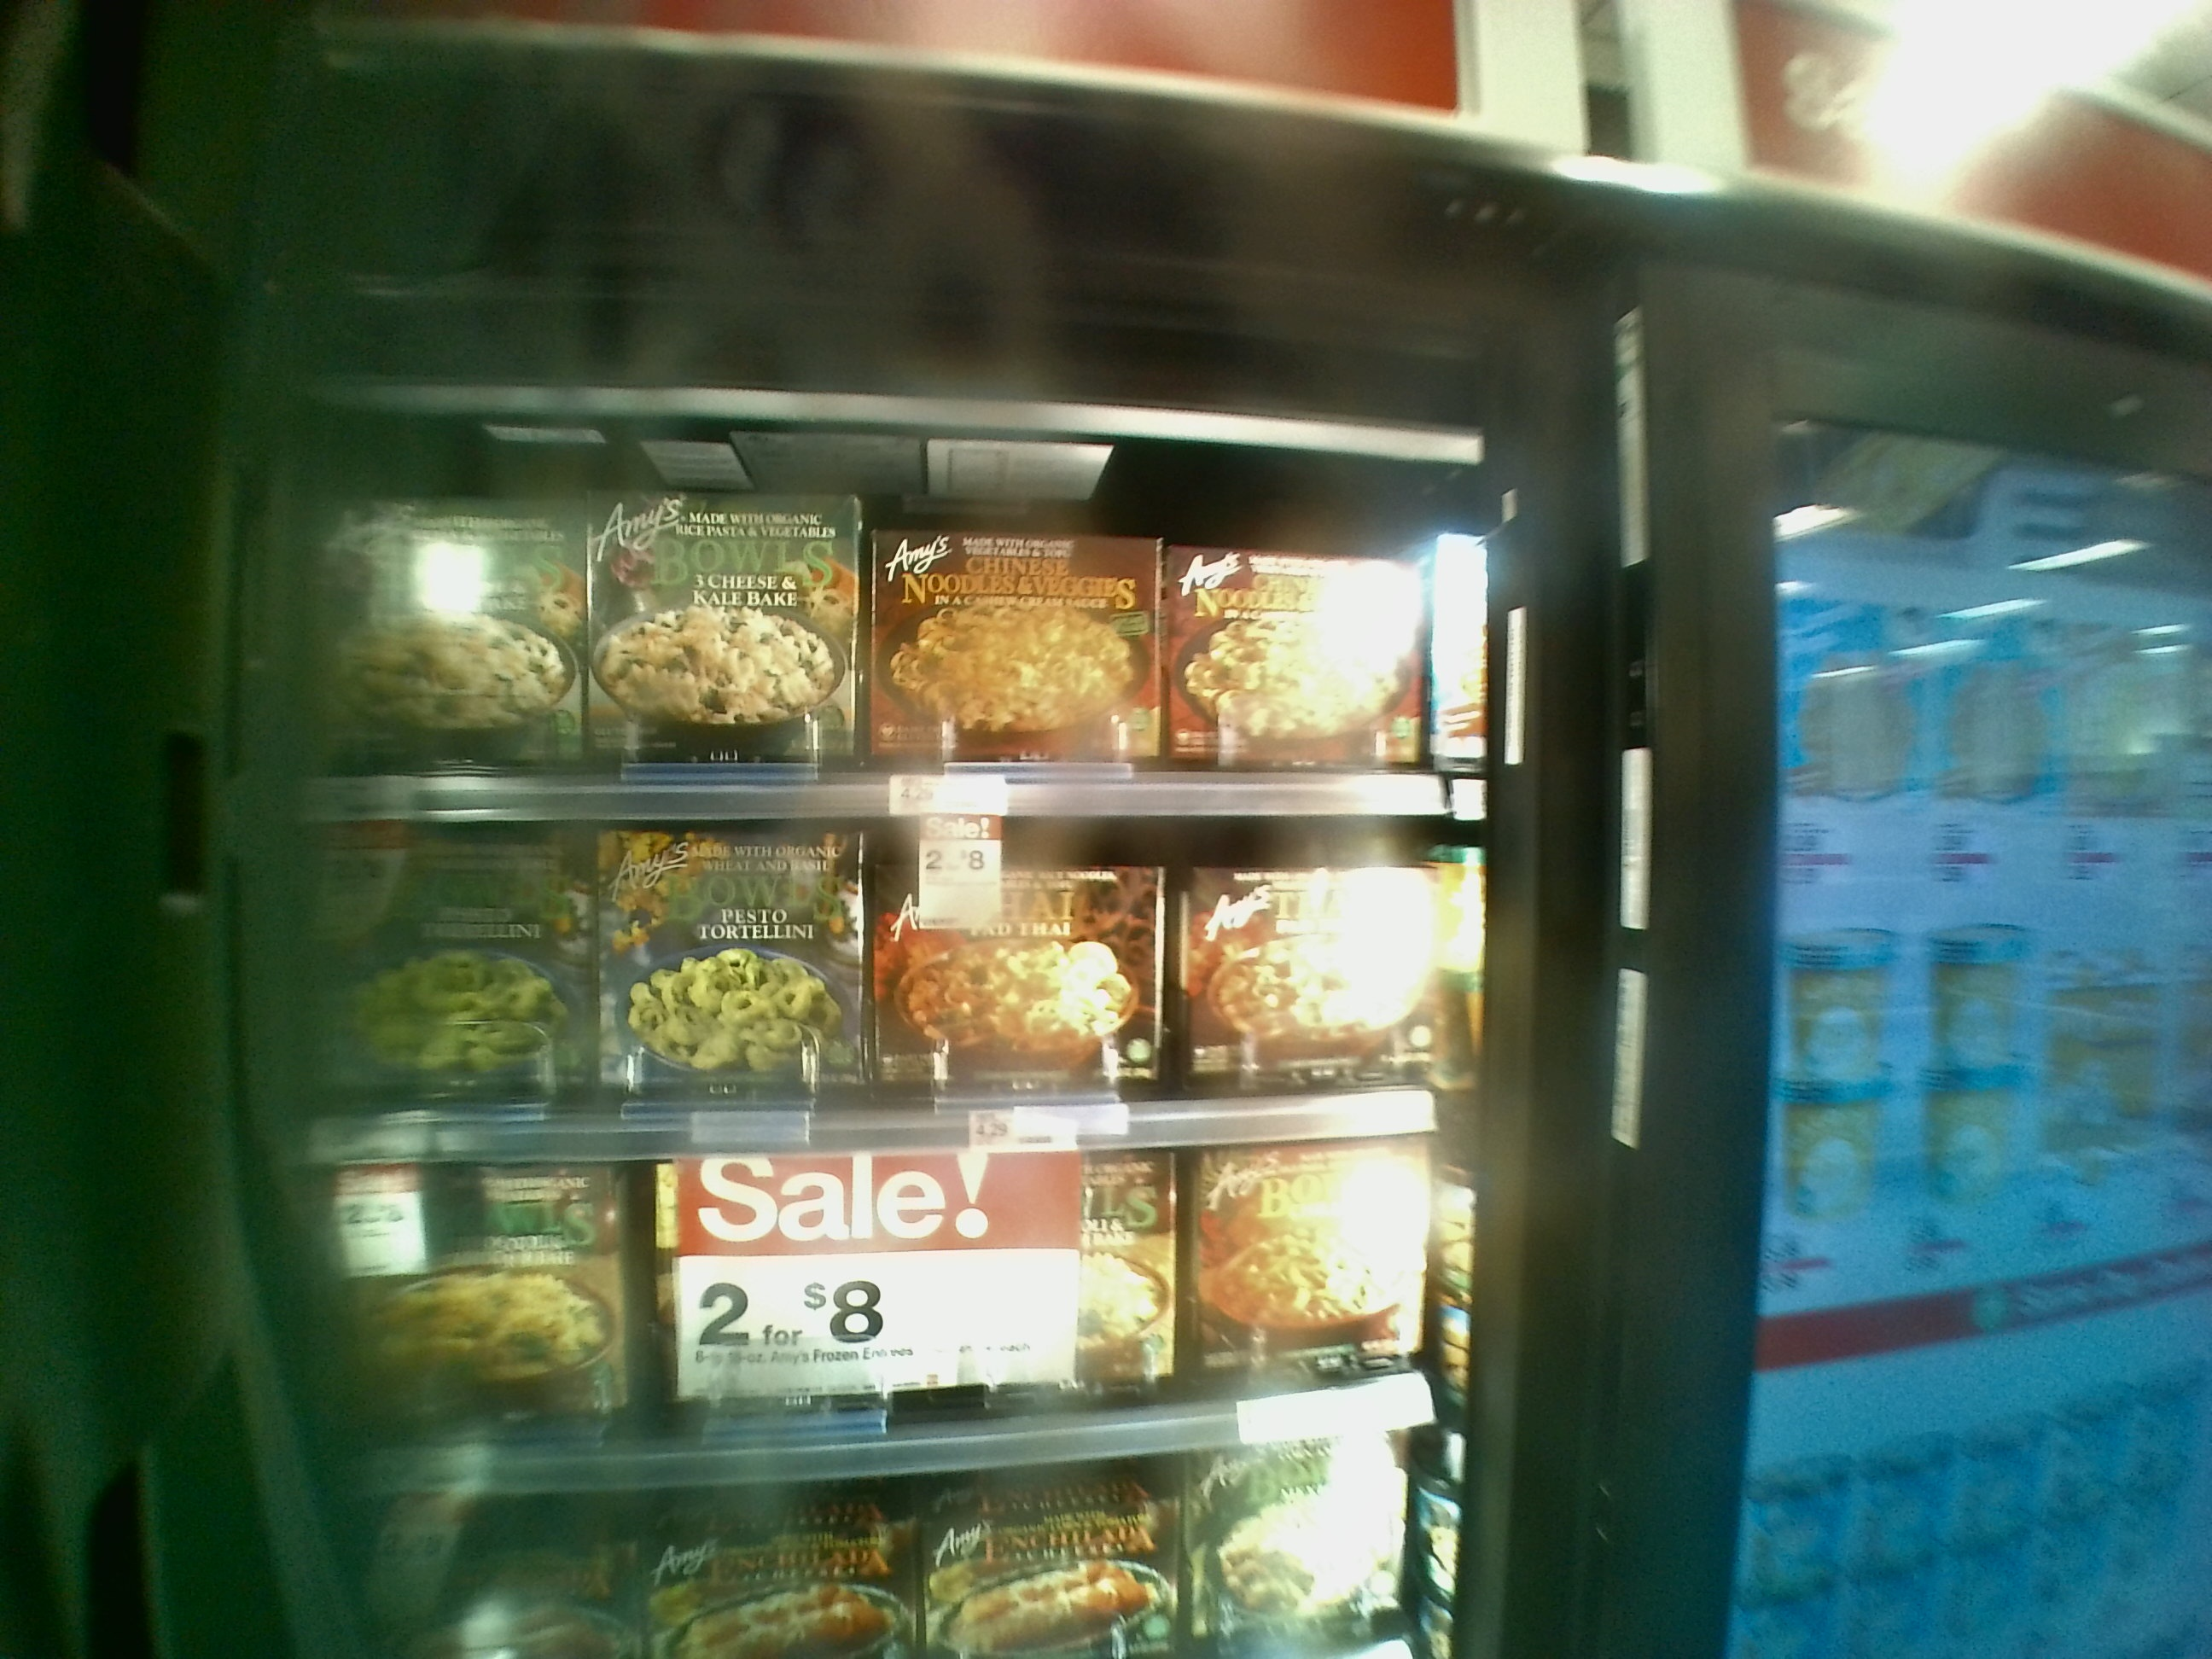shelf: (287, 410, 1470, 824), (296, 829, 1442, 1147), (315, 1157, 1426, 1473)
